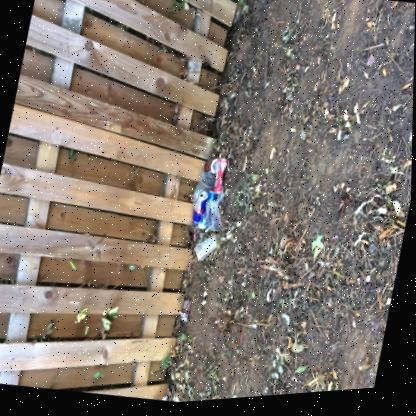Metal: (213, 161, 228, 199), (192, 194, 208, 228), (204, 162, 218, 177), (198, 211, 207, 232), (206, 194, 217, 208), (180, 316, 186, 323), (217, 196, 219, 200)
Paper: (179, 302, 193, 324)
Plastic: (205, 195, 224, 234), (195, 237, 219, 264), (192, 181, 214, 210), (200, 175, 215, 188)
Waste: (366, 60, 373, 72), (194, 228, 197, 243)
